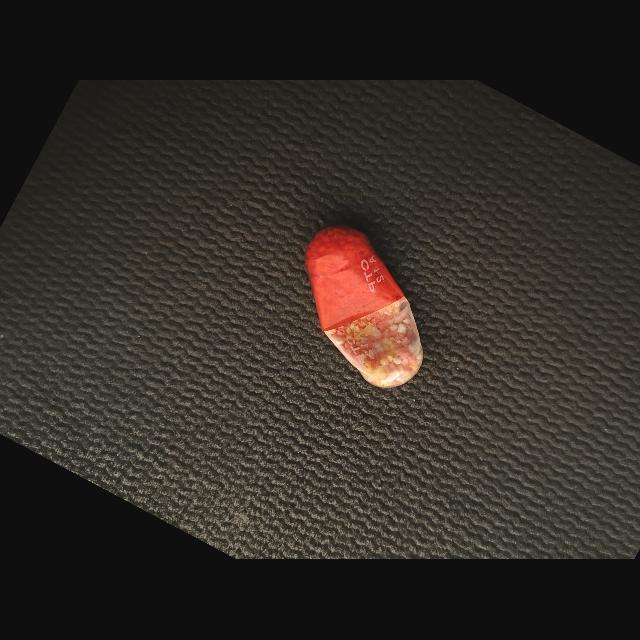Defective Capsule: (305, 225, 423, 389)
